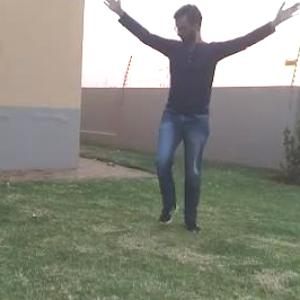takeoff: (100, 0, 300, 239)
